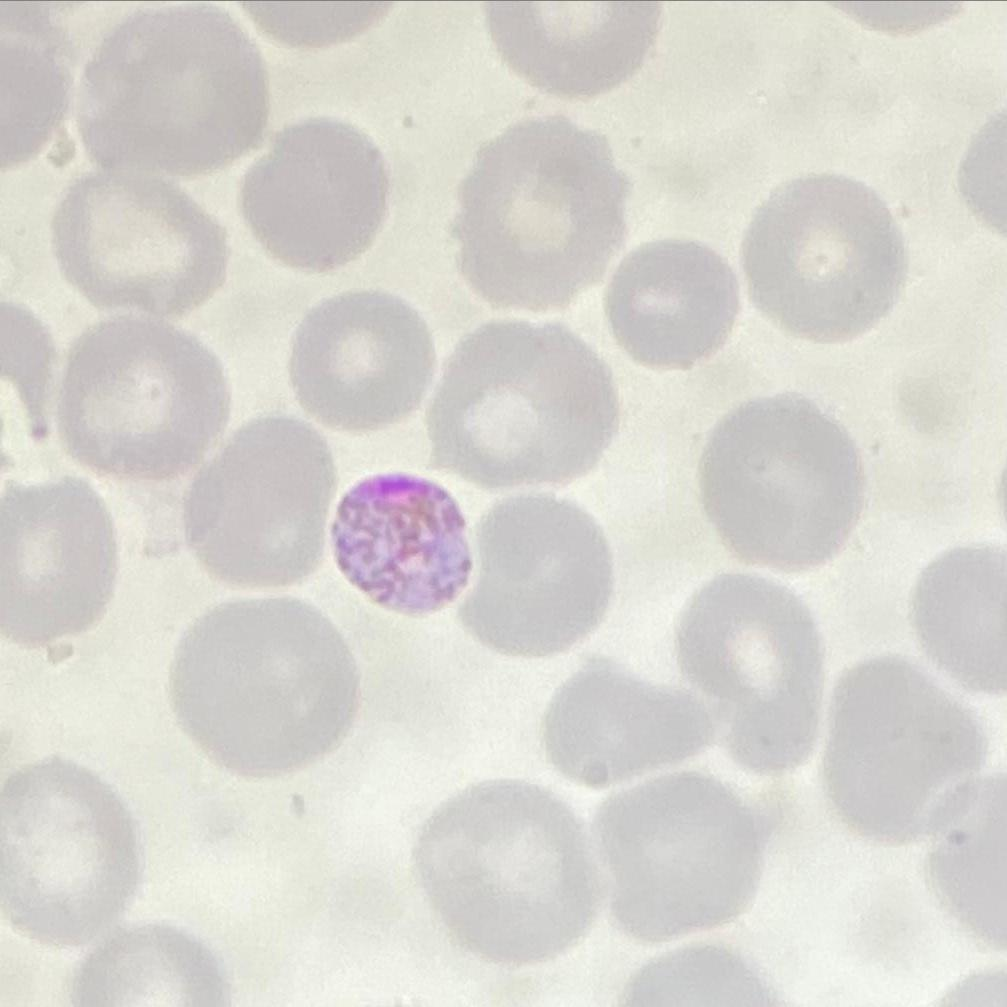Infected: (328, 471, 476, 623)
Uninfected: (447, 116, 629, 316), (172, 596, 354, 781), (410, 786, 594, 968), (815, 656, 982, 846), (432, 321, 619, 486), (78, 3, 266, 166), (675, 573, 827, 773), (698, 391, 868, 566), (595, 776, 759, 948), (45, 171, 229, 324), (57, 316, 232, 476), (0, 758, 144, 952), (745, 173, 906, 341), (185, 416, 329, 598), (463, 501, 616, 665), (542, 656, 738, 783), (240, 113, 388, 269), (282, 291, 434, 433), (480, 0, 662, 108), (0, 481, 119, 645), (605, 241, 738, 375)
